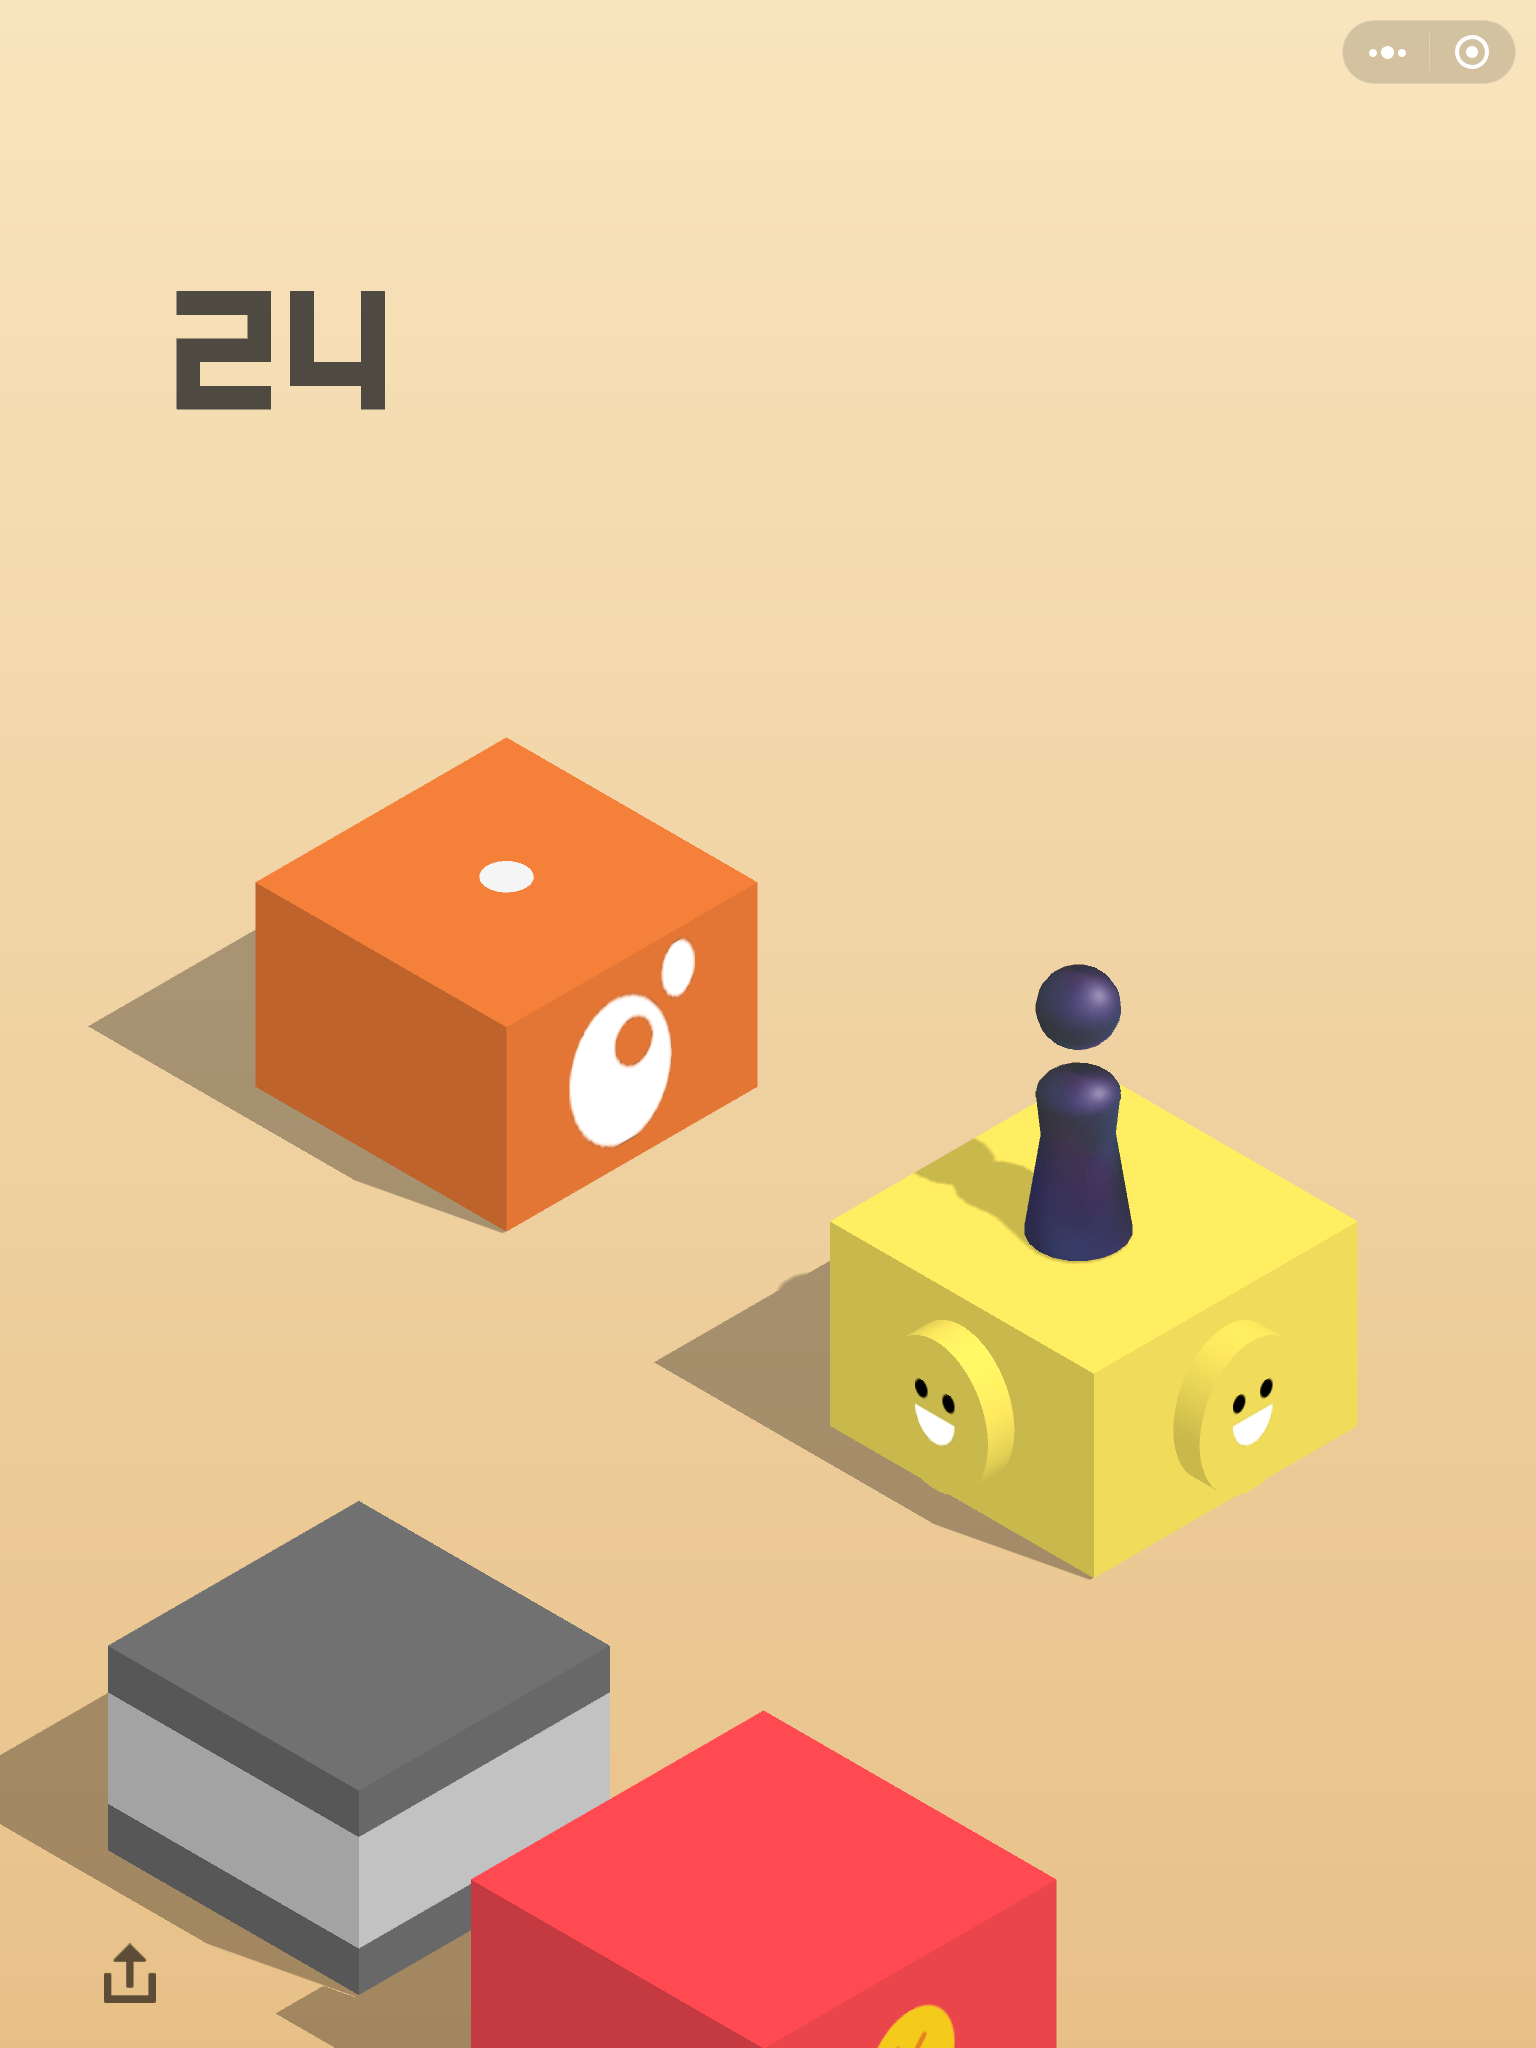f: (820, 1068, 1367, 1587), (100, 1495, 618, 2000), (248, 732, 765, 1234), (461, 1708, 1063, 2048)
r: (1016, 955, 1137, 1266)
